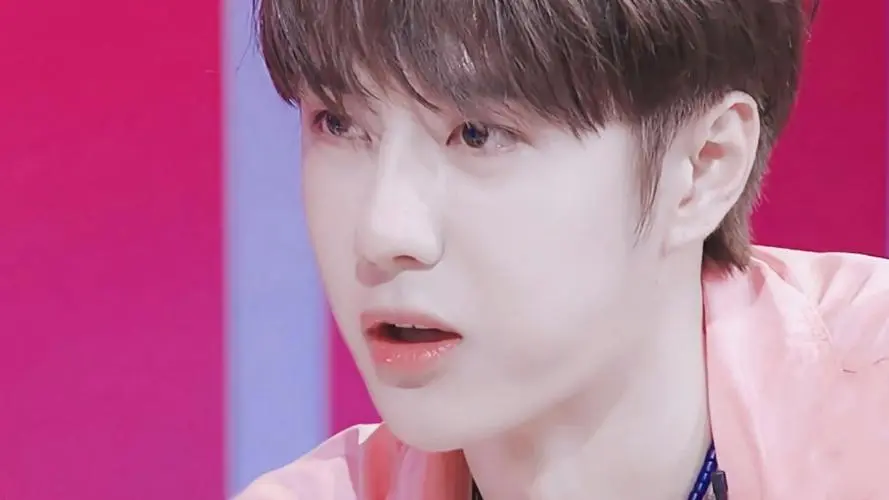withoutmask: (243, 3, 814, 456)
